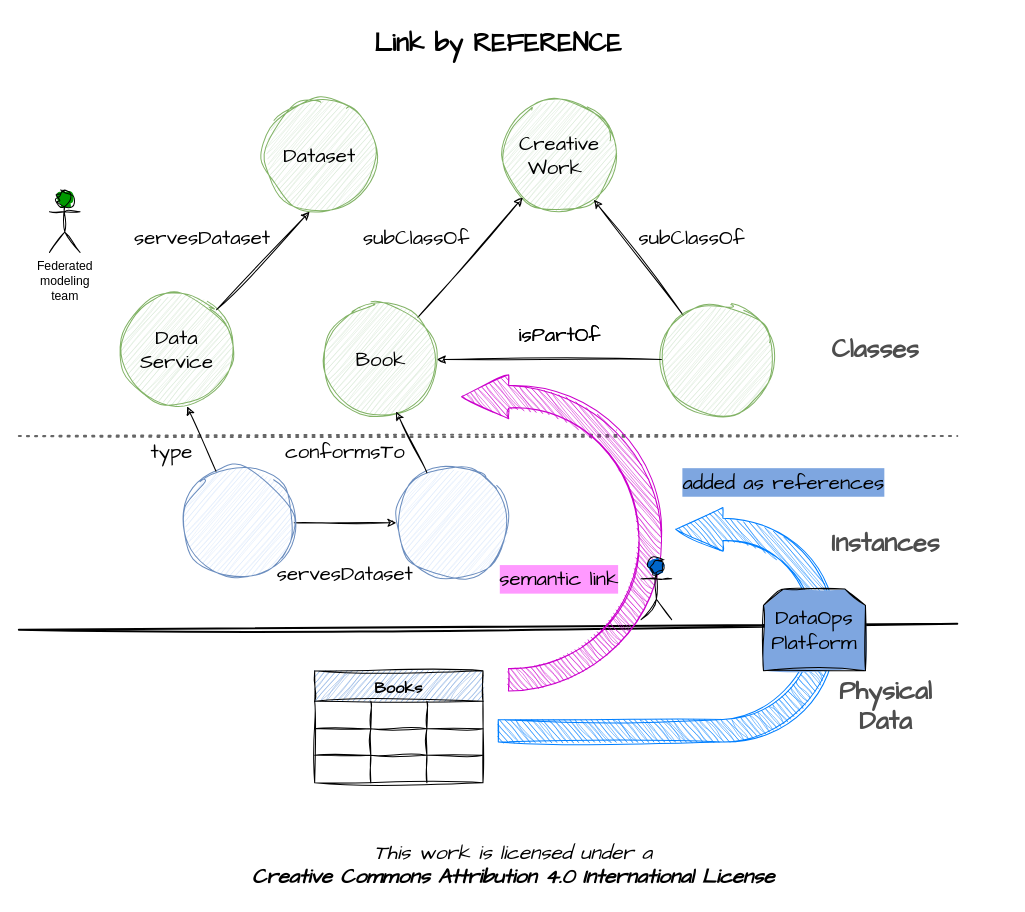
Image size: 1025x912. Some labels were removed from this diagram. Here are the shapes that lost their labels. From the top down, the centre of each, then its label:
point 717,359: Chapter
point 237,522: Books Output Port
point 451,522: Books Dataset
point 656,588: Data product teams
